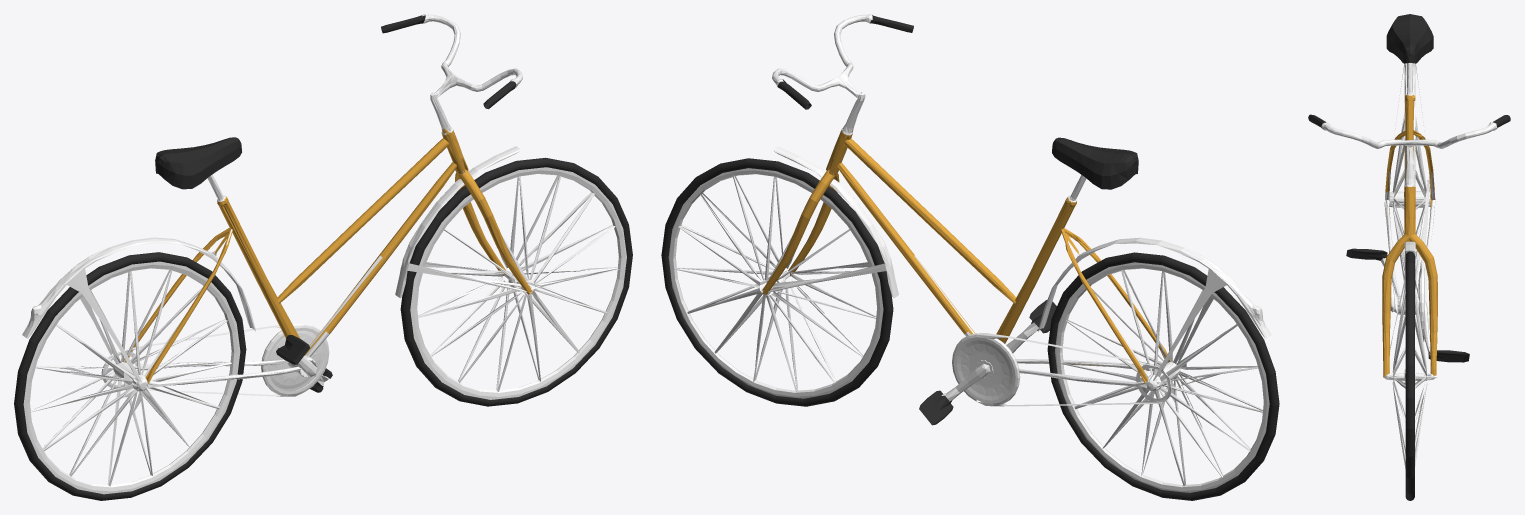
The model's file is bike.obj.
The picture shows the model from 3 angles, left to right: view 1: azimuth 30°, elevation 25°; view 2: azimuth 150°, elevation 25°; view 3: azimuth 270°, elevation 25°; orthographic projection. The views are drawn at different scales.
Visible parts, largest first — view 1: Subdivision_Surface.2, Tire, Tire_1; view 2: Subdivision_Surface.2, Tire, Tire_1; view 3: Subdivision_Surface.2, Tire_1.
Part boxes in pixels (x1=…): Subdivision_Surface.2: x1=22, y1=14, x2=626, y2=494; Tire: x1=14, y1=252, x2=246, y2=500; Tire_1: x1=400, y1=157, x2=632, y2=406; Subdivision_Surface.2: x1=668, y1=14, x2=1271, y2=492; Tire: x1=1047, y1=252, x2=1279, y2=500; Tire_1: x1=661, y1=158, x2=893, y2=406; Subdivision_Surface.2: x1=1308, y1=14, x2=1510, y2=468; Tire_1: x1=1405, y1=251, x2=1414, y2=500.
Size of the model in its own units: 355 by 202 by 107.
